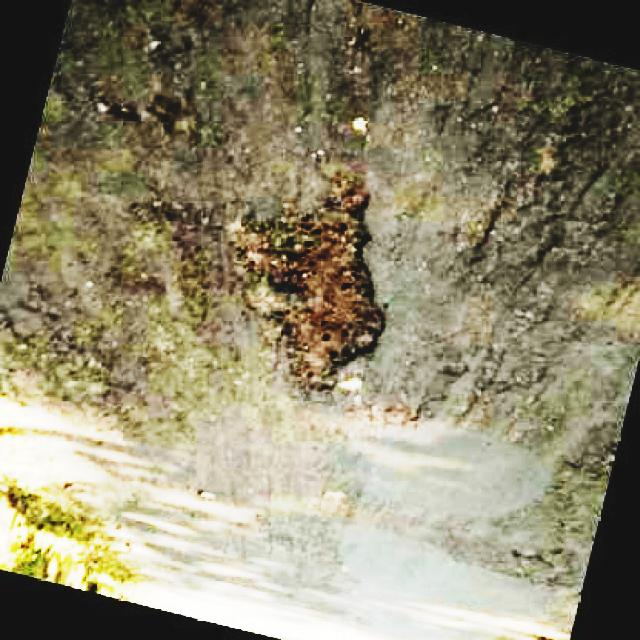pothole: (233, 183, 384, 391)
